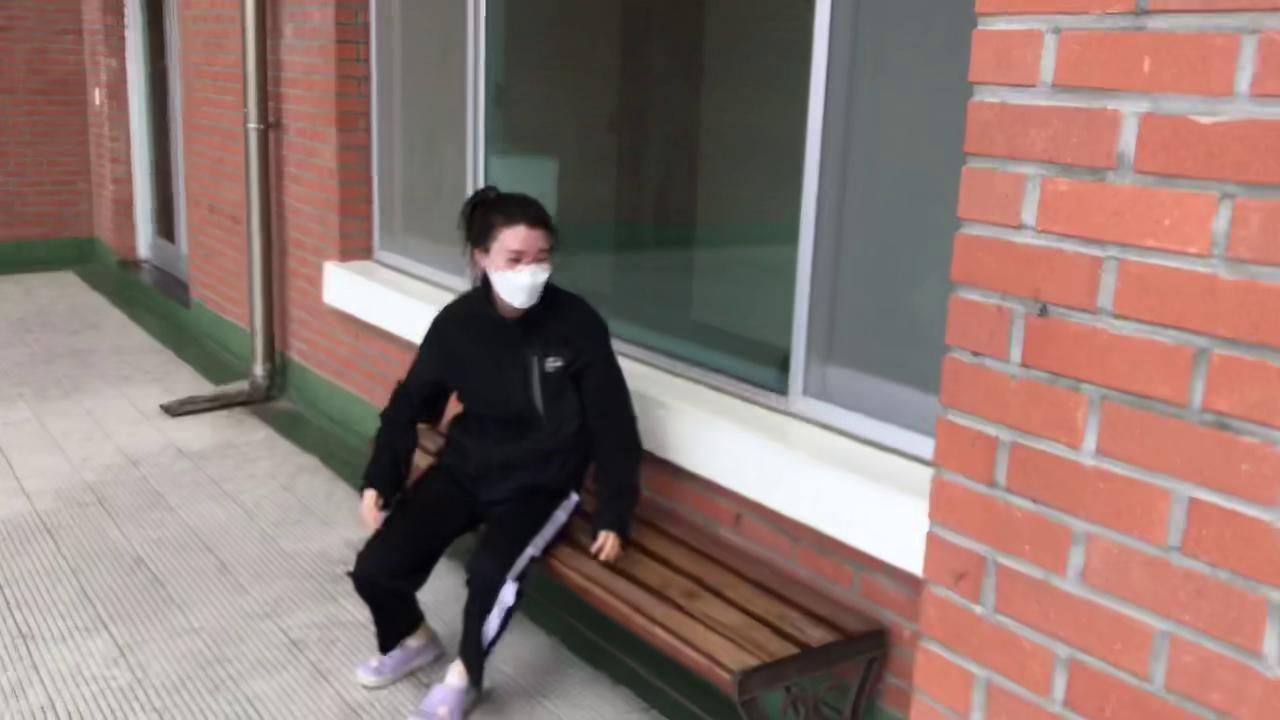sleep: (339, 172, 642, 715)
